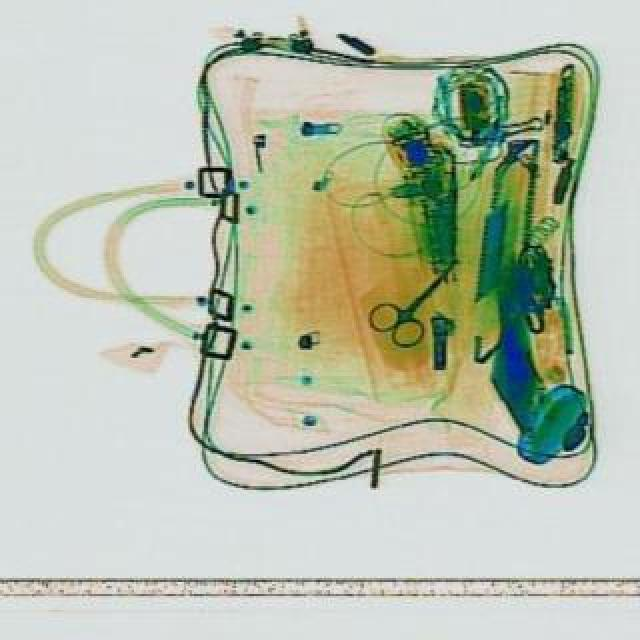pliers: (358, 252, 470, 358)
